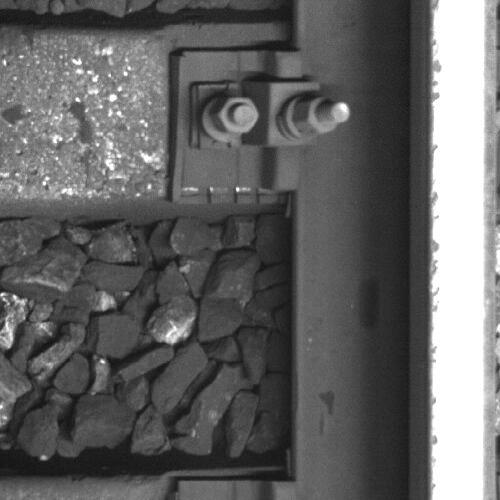kb: (177, 49, 352, 189)
nut: (292, 96, 351, 138), (211, 97, 258, 137)
rail: (430, 1, 494, 500)
tie_concr: (1, 25, 291, 200)
